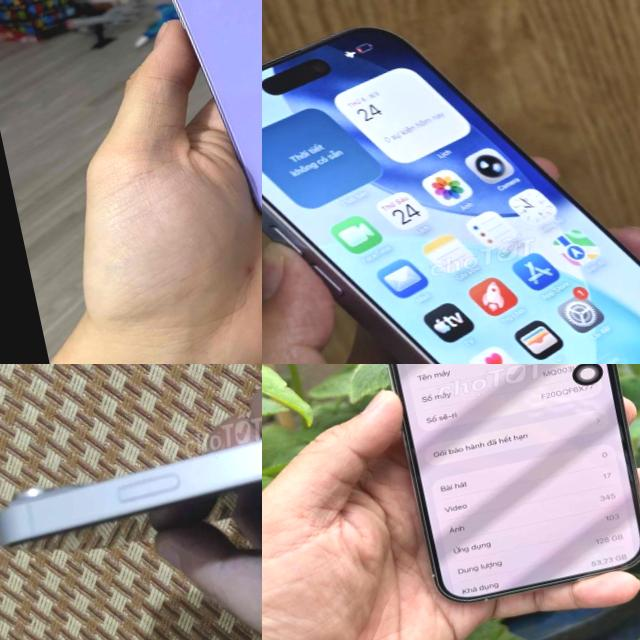gen_12_13: (130, 0, 262, 243)
gen_14: (358, 364, 640, 626), (0, 368, 262, 569)
gen_17: (262, 0, 640, 364)
